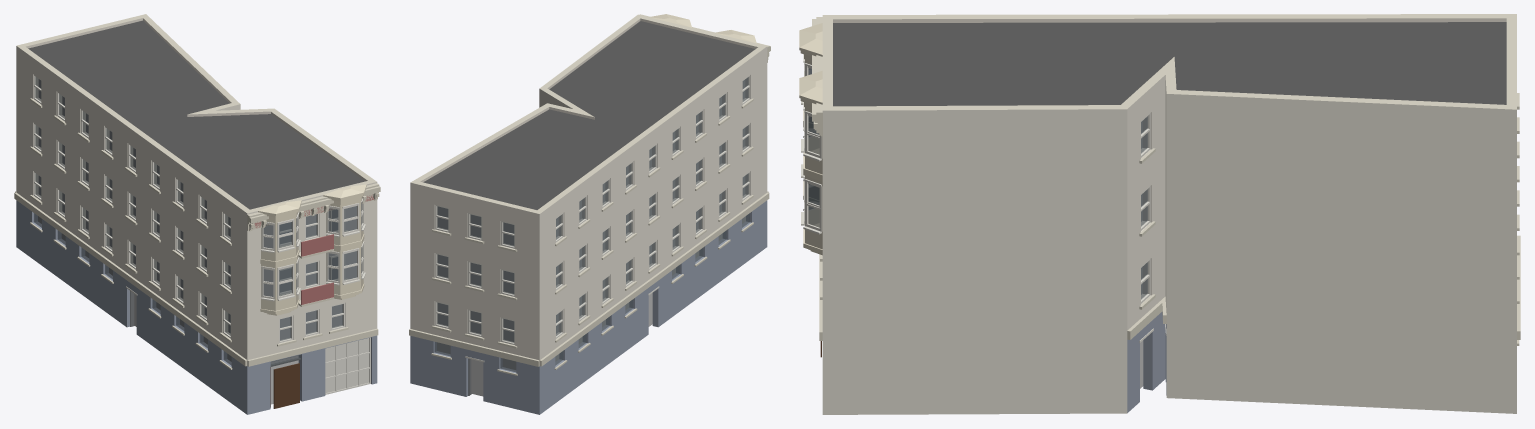
File: exterior.glb
3 views of the same model, side by side, from view 1: azimuth 30°, elevation 25°; view 2: azimuth 150°, elevation 25°; view 3: azimuth 270°, elevation 25° (orthographic). The views are drawn at different scales.
Visible parts, largest first — view 1: shell, roof, trim, glazing, bay-glazing-hyb, frames, shadow-proxy, bay-windows-hyb, storefront, hand-ornament, front-dressing-r4; view 2: shell, roof, glazing, trim, frames, shadow-proxy, bay-windows-hyb; view 3: shell, roof, bay-windows-hyb, trim, bay-glazing-hyb, frames.
Boxes of the visible parts, x1=… form: shell: x1=16, y1=14, x2=377, y2=414; roof: x1=28, y1=20, x2=364, y2=209; trim: x1=14, y1=98, x2=380, y2=369; glazing: x1=34, y1=77, x2=342, y2=365; bay-glazing-hyb: x1=261, y1=198, x2=365, y2=301; frames: x1=33, y1=75, x2=345, y2=343; shadow-proxy: x1=38, y1=79, x2=356, y2=404; bay-windows-hyb: x1=258, y1=184, x2=366, y2=315; storefront: x1=126, y1=286, x2=370, y2=407; hand-ornament: x1=273, y1=234, x2=333, y2=408; front-dressing-r4: x1=249, y1=193, x2=379, y2=231; shell: x1=410, y1=14, x2=767, y2=414; roof: x1=423, y1=21, x2=755, y2=209; glazing: x1=434, y1=77, x2=749, y2=372; trim: x1=409, y1=14, x2=770, y2=375; frames: x1=435, y1=75, x2=750, y2=344; shadow-proxy: x1=437, y1=80, x2=745, y2=396; bay-windows-hyb: x1=649, y1=14, x2=756, y2=43; shell: x1=822, y1=14, x2=1516, y2=414; roof: x1=833, y1=22, x2=1506, y2=106; bay-windows-hyb: x1=799, y1=23, x2=822, y2=255; trim: x1=812, y1=17, x2=1520, y2=345; bay-glazing-hyb: x1=801, y1=54, x2=822, y2=234; frames: x1=1141, y1=113, x2=1150, y2=303.
Bounding box in the file's own units: 7.79 × 11.36 × 24.18.
